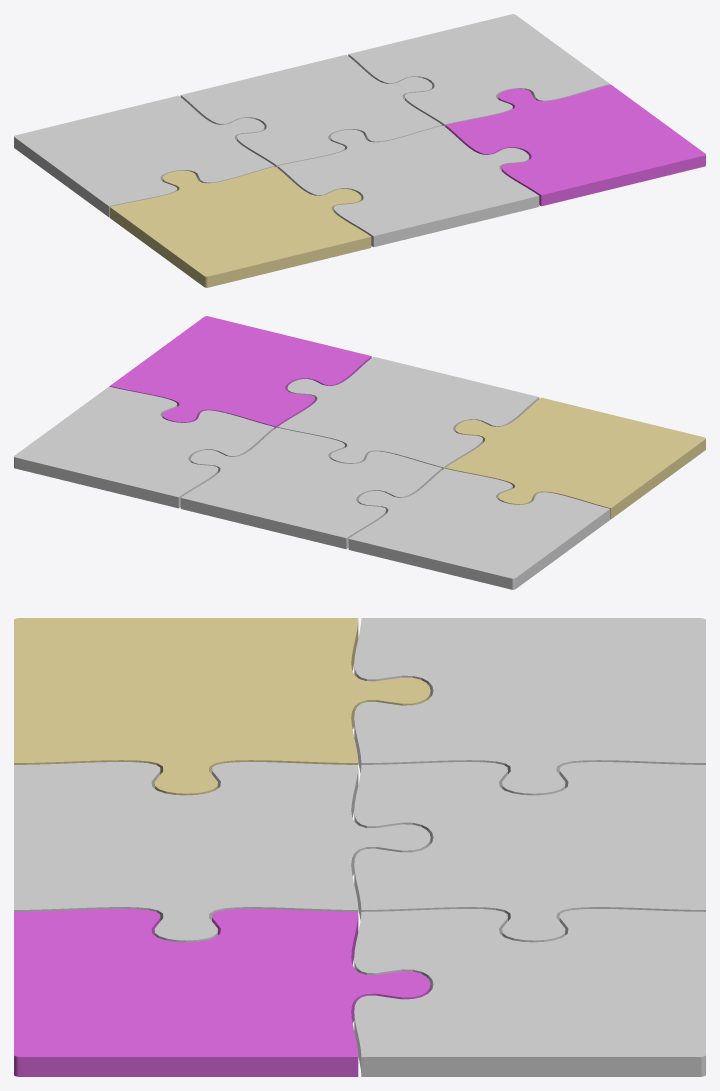
File: final_puzzle2.fbx
3 renders of one model, top to bottom at view 1: azimuth 30°, elevation 25°; view 2: azimuth 150°, elevation 25°; view 3: azimuth 270°, elevation 25°, orthographic. The views are drawn at different scales.
Visible parts, largest first — view 1: Plane, Plane.002, Plane.001, Plane.004, Plane.003, Plane.005; view 2: Plane.004, Plane, Plane.003, Plane.005, Plane.002, Plane.001; view 3: Plane.001, Plane.005, Plane, Plane.002, Plane.004, Plane.003.
Boxes of the visible parts, x1,y1,x2,y2 form: Plane: [109, 166, 371, 287]; Plane.002: [277, 125, 539, 247]; Plane.001: [445, 84, 705, 206]; Plane.004: [14, 95, 274, 217]; Plane.003: [180, 54, 442, 167]; Plane.005: [348, 14, 610, 126]; Plane.004: [348, 468, 610, 589]; Plane: [445, 397, 705, 519]; Plane.003: [180, 427, 442, 549]; Plane.005: [14, 386, 274, 508]; Plane.002: [277, 356, 539, 469]; Plane.001: [109, 316, 371, 428]; Plane.001: [14, 909, 430, 1076]; Plane.005: [354, 909, 705, 1076]; Plane: [14, 618, 430, 795]; Plane.002: [14, 762, 430, 942]; Plane.004: [354, 618, 705, 795]; Plane.003: [354, 762, 705, 942].
Bounding box in the file's own units: 1083 × 23.01 × 722.
